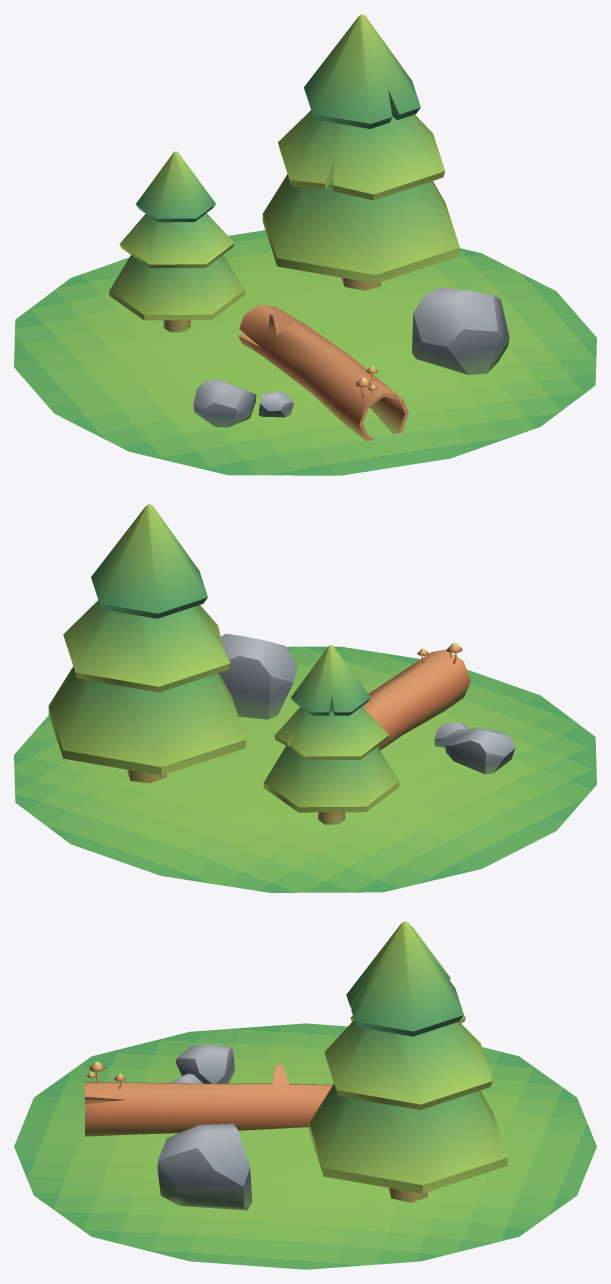
Rendered from Finished_Scene.glb.
3 renders of one model, top to bottom at view 1: azimuth 30°, elevation 25°; view 2: azimuth 150°, elevation 25°; view 3: azimuth 270°, elevation 25°, orthographic.
Visible parts, largest first — view 1: Ground, Fir_Tree_02, Fir_Tree_01, Log, Rock_03, Rock_01, Rock_02; view 2: Ground, Fir_Tree_02, Fir_Tree_01, Log, Rock_03, Rock_01, Rock_02; view 3: Ground, Fir_Tree_02, Log, Rock_03, Rock_01.
Part boxes in pixels (box(x1,y1,x2,y2)): Ground: box(14, 230, 596, 475); Fir_Tree_02: box(262, 14, 459, 290); Fir_Tree_01: box(109, 151, 244, 332); Log: box(238, 304, 408, 441); Rock_03: box(412, 287, 509, 374); Rock_01: box(193, 379, 256, 427); Rock_02: box(258, 391, 293, 417); Ground: box(14, 646, 596, 892); Fir_Tree_02: box(48, 504, 245, 783); Fir_Tree_01: box(263, 645, 399, 824); Log: box(362, 649, 470, 750); Rock_03: box(219, 633, 297, 719); Rock_01: box(445, 727, 515, 774); Rock_02: box(434, 722, 469, 747); Ground: box(14, 1023, 596, 1269); Fir_Tree_02: box(309, 921, 507, 1202); Log: box(85, 1064, 332, 1136); Rock_03: box(157, 1123, 252, 1210); Rock_01: box(176, 1044, 235, 1083).
Size of the model in its own units: 20.15 by 10.76 by 20.15.
1 material, 1 textured.
